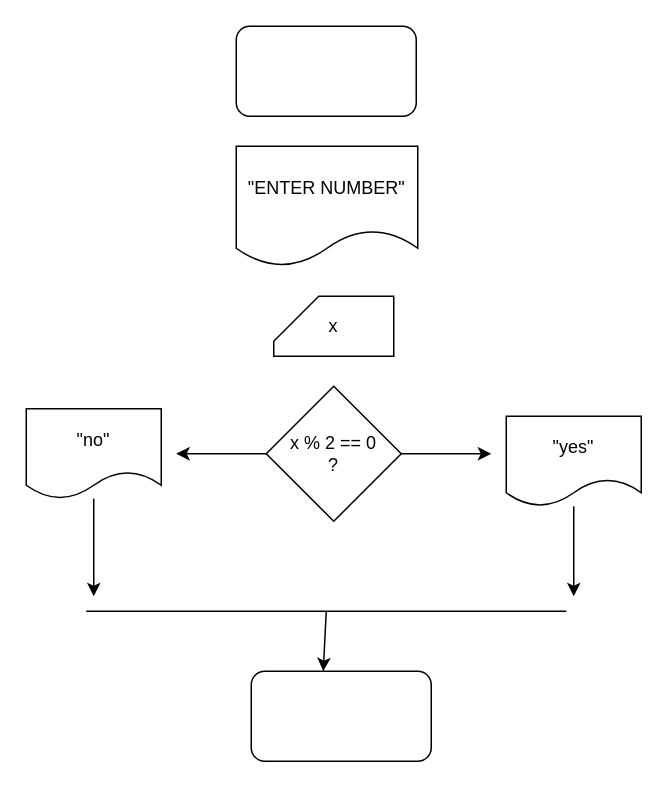
This 668x788 diagram has some shape labels left out. The shapes that lost their labels are listed below. From the top down, each one's centre as x and y in pixels, then its label:
At (x=325, y=70): "START".
At (x=340, y=715): "STOP".
